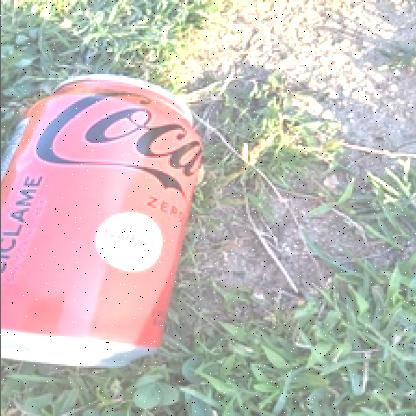Can: (0, 73, 206, 363)
